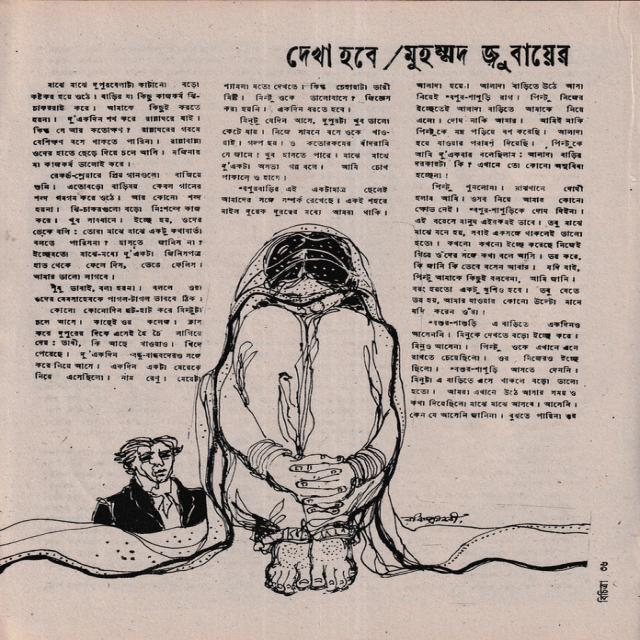image: (2, 222, 592, 597)
page number: (598, 562, 608, 572)
paragraph: (411, 181, 587, 317), (31, 171, 204, 281), (407, 316, 582, 421), (414, 80, 587, 180), (29, 81, 204, 170), (35, 306, 204, 384), (219, 115, 391, 182), (220, 184, 389, 219), (224, 81, 392, 115), (34, 284, 204, 303)
text: (404, 43, 573, 76), (379, 41, 407, 73), (595, 580, 610, 602)
title: (285, 44, 378, 69)
